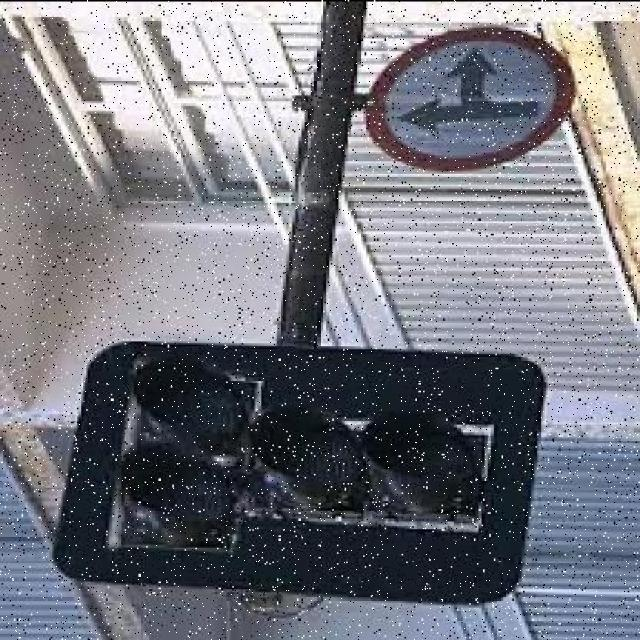traffic-light: (49, 330, 556, 612)
